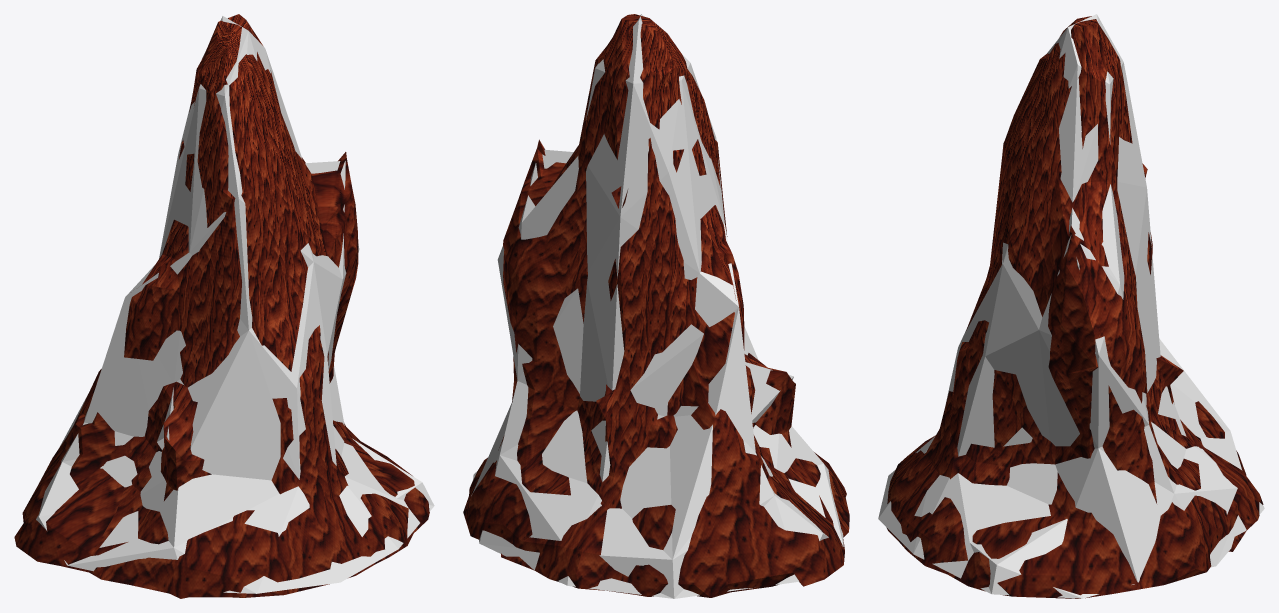
File: Cupinzeiro-01-Catedral.glb
3 views of the same model, side by side, from view 1: azimuth 30°, elevation 25°; view 2: azimuth 150°, elevation 25°; view 3: azimuth 270°, elevation 25° (orthographic).
Parts seen in each view (by area): view 1: Cupinzeiro-01-Catedral, Cupinzeiro-01-Catedral_COL; view 2: Cupinzeiro-01-Catedral, Cupinzeiro-01-Catedral_COL; view 3: Cupinzeiro-01-Catedral, Cupinzeiro-01-Catedral_COL.
Part boxes in pixels (x1=…): Cupinzeiro-01-Catedral: x1=14, y1=14, x2=429, y2=598; Cupinzeiro-01-Catedral_COL: x1=36, y1=16, x2=434, y2=593; Cupinzeiro-01-Catedral: x1=463, y1=14, x2=849, y2=597; Cupinzeiro-01-Catedral_COL: x1=471, y1=14, x2=843, y2=598; Cupinzeiro-01-Catedral: x1=886, y1=16, x2=1263, y2=598; Cupinzeiro-01-Catedral_COL: x1=878, y1=14, x2=1264, y2=598.
Size of what is drawn, in the model's own units: 2.62 by 3.41 by 2.37.
Materials: 1 (1 with a texture image).
